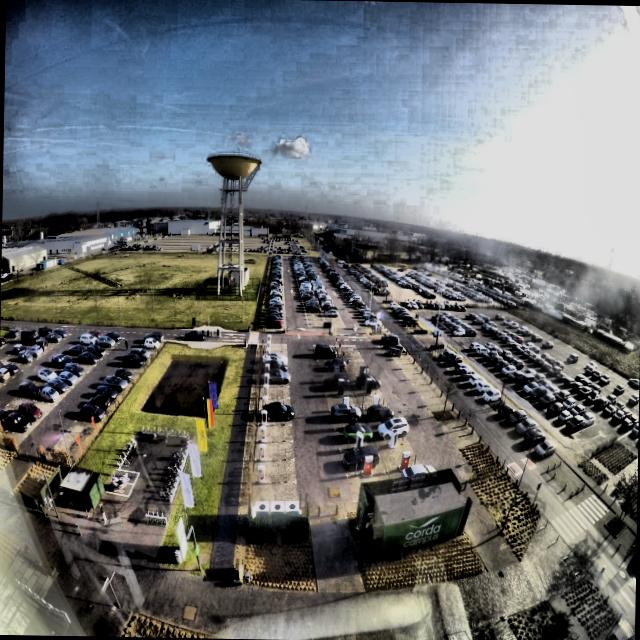cabinet: (256, 500, 298, 512)
car: (260, 400, 293, 419), (262, 368, 290, 383), (260, 359, 286, 372), (260, 351, 286, 362)
parking: (254, 458, 295, 482), (252, 482, 296, 501), (255, 440, 293, 459), (256, 423, 292, 440), (258, 408, 292, 422), (258, 395, 290, 407), (260, 363, 288, 375), (258, 384, 288, 394), (264, 350, 286, 362), (260, 376, 288, 384), (264, 344, 286, 351)
